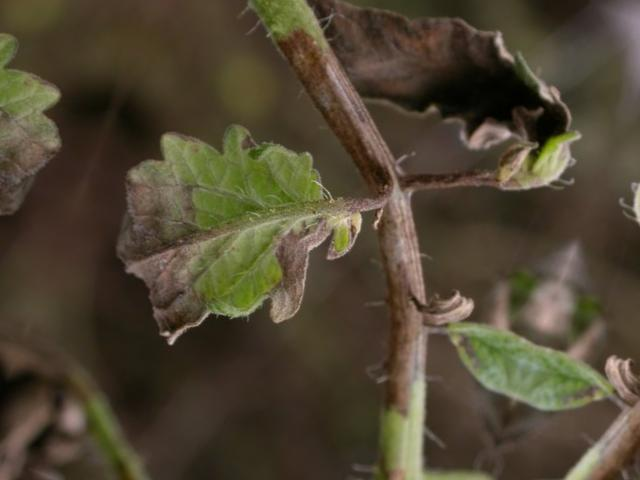Tomato leaf late blight: (64, 79, 380, 393)
